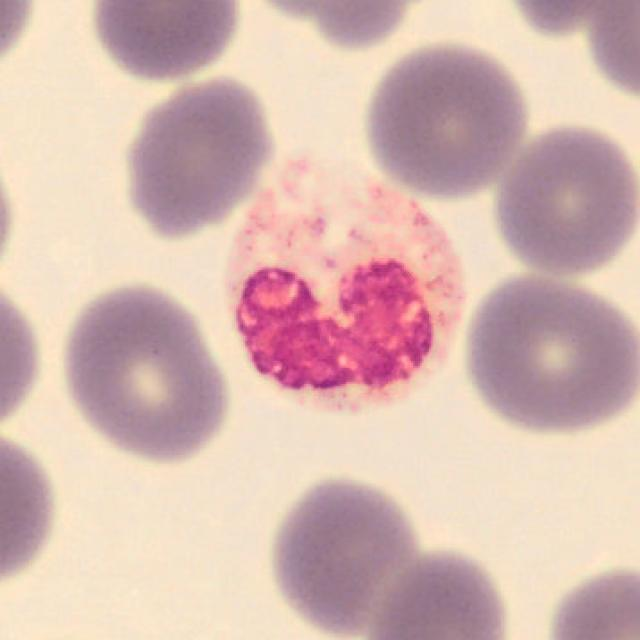Neutrofilo segmentado: (223, 149, 470, 416)
